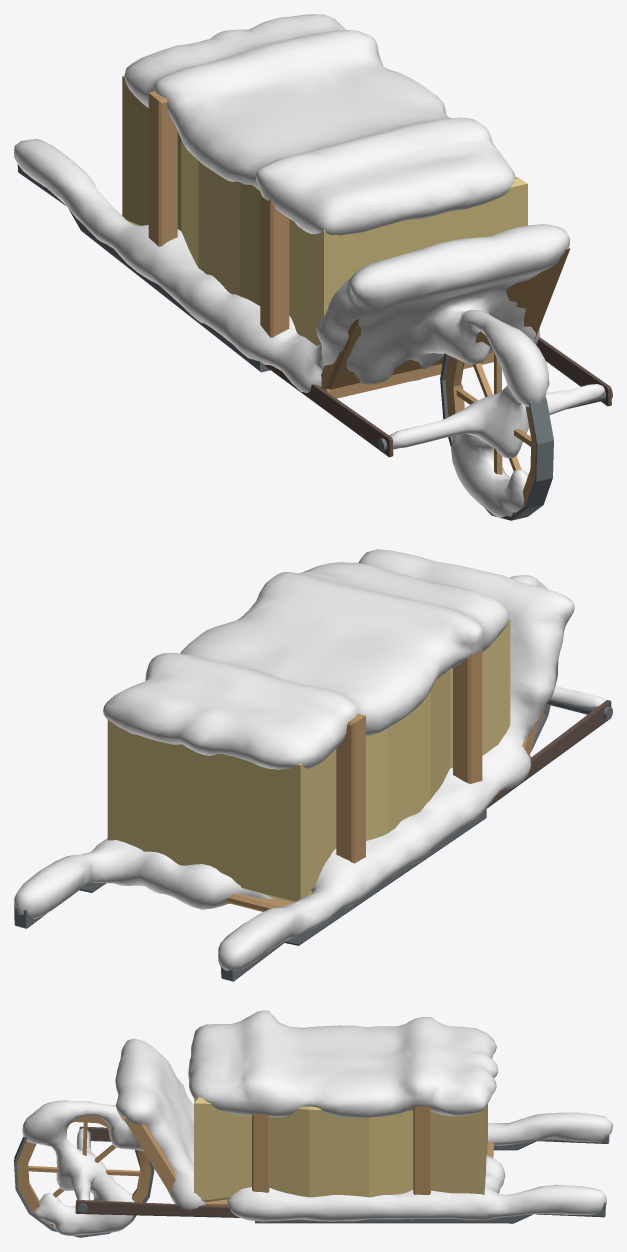
File: HayTrailorSNOW.fbx
The picture shows the model from 3 angles, top to bottom: view 1: azimuth 30°, elevation 25°; view 2: azimuth 150°, elevation 25°; view 3: azimuth 270°, elevation 25°; orthographic projection. The views are drawn at different scales.
Parts seen in each view (by area): view 1: SnowBall.001, Box003; view 2: SnowBall.001, Box003; view 3: SnowBall.001, Box003.
Part boxes in pixels (x1,y1,x2,y2): SnowBall.001: (14, 14, 604, 517); Box003: (17, 76, 612, 520); SnowBall.001: (14, 549, 605, 970); Box003: (14, 618, 612, 981); SnowBall.001: (22, 1010, 612, 1235); Box003: (14, 1096, 609, 1237).
Size of the model in its own units: 41.18 by 42.99 by 120.
